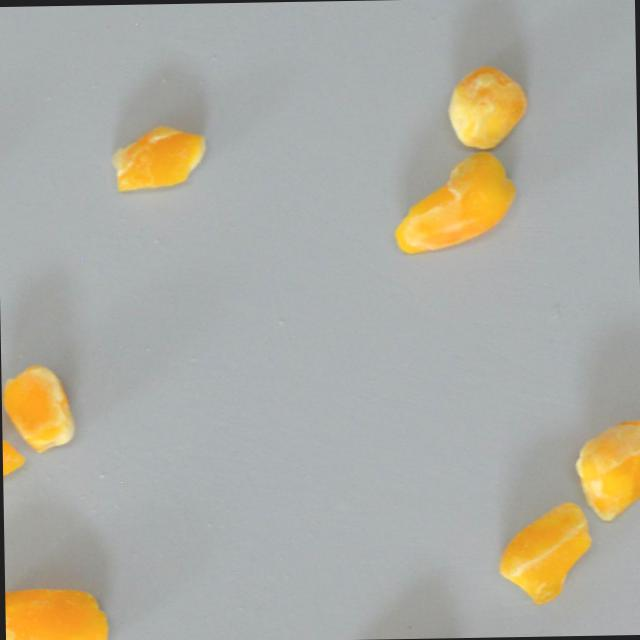pelicula: (91, 105, 223, 213), (418, 43, 550, 151), (388, 148, 519, 256), (490, 500, 601, 608), (561, 410, 640, 523), (0, 347, 80, 454), (4, 569, 112, 640), (2, 421, 28, 528)
